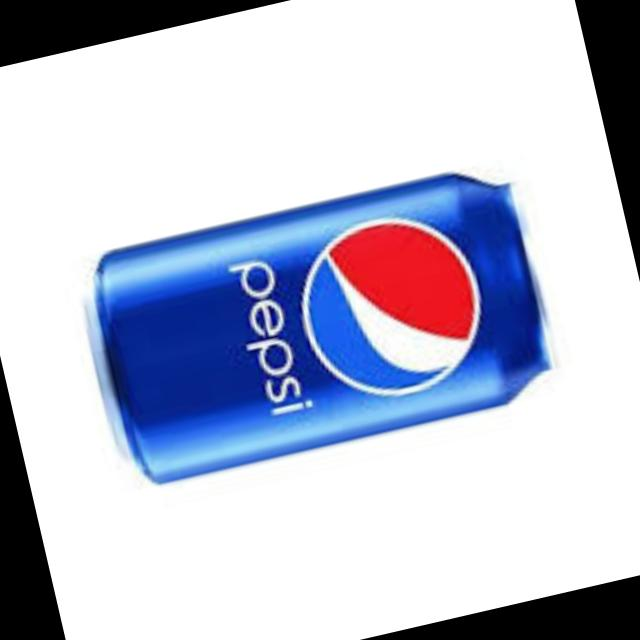metal: (102, 169, 552, 475)
